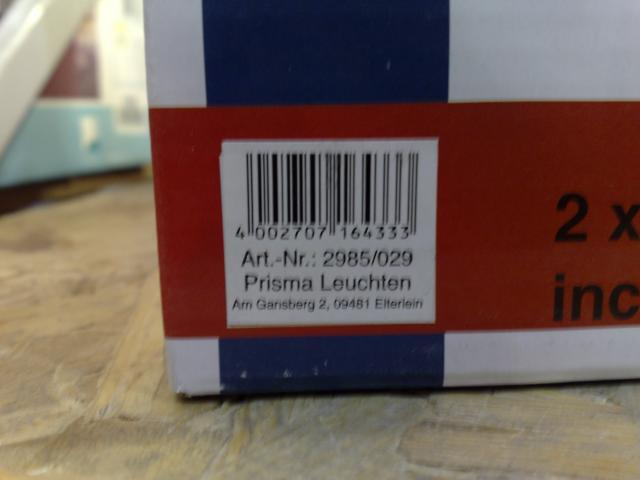Barcode: (224, 144, 425, 247)
